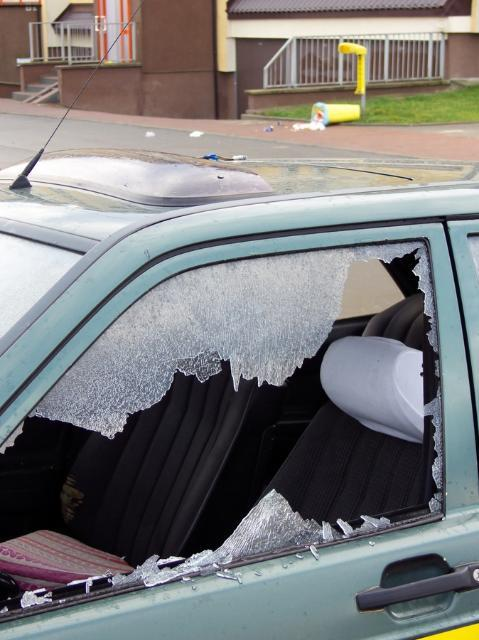Door: (20, 265, 461, 640)
